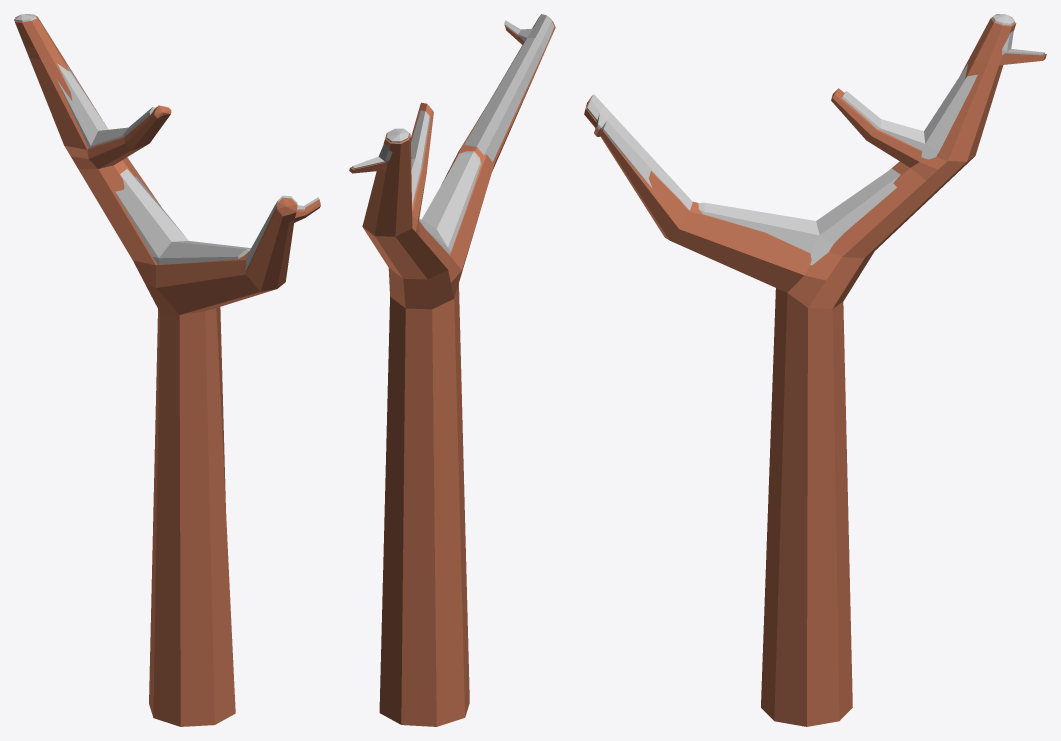
File: Tree_03_winter_vc.fbx
3 renders of one model, left to right at view 1: azimuth 30°, elevation 25°; view 2: azimuth 150°, elevation 25°; view 3: azimuth 270°, elevation 25°, orthographic. The views are drawn at different scales.
Parts seen in each view (by area): view 1: Tree_03_winter_vc; view 2: Tree_03_winter_vc; view 3: Tree_03_winter_vc.
Part boxes in pixels (x1,y1,x2,y2): Tree_03_winter_vc: [14, 14, 320, 726]; Tree_03_winter_vc: [349, 14, 555, 726]; Tree_03_winter_vc: [584, 14, 1046, 726].
Bounding box in the file's own units: 0.7161 × 3.65 × 2.33.
